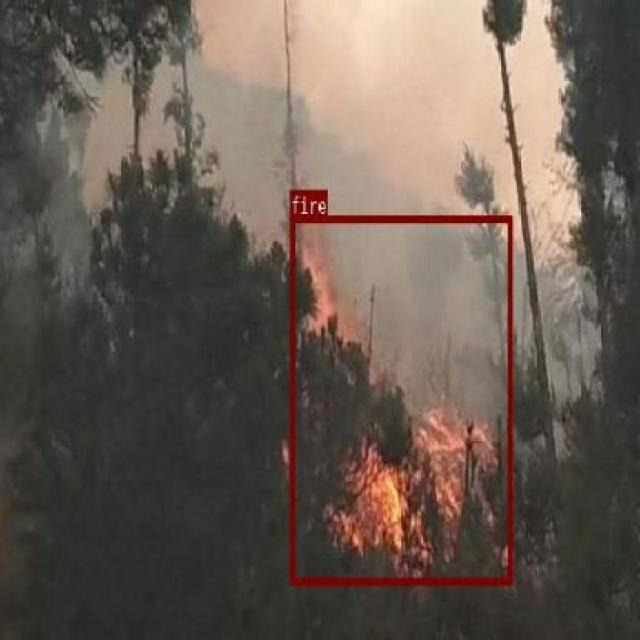Fire: (290, 215, 512, 583)
